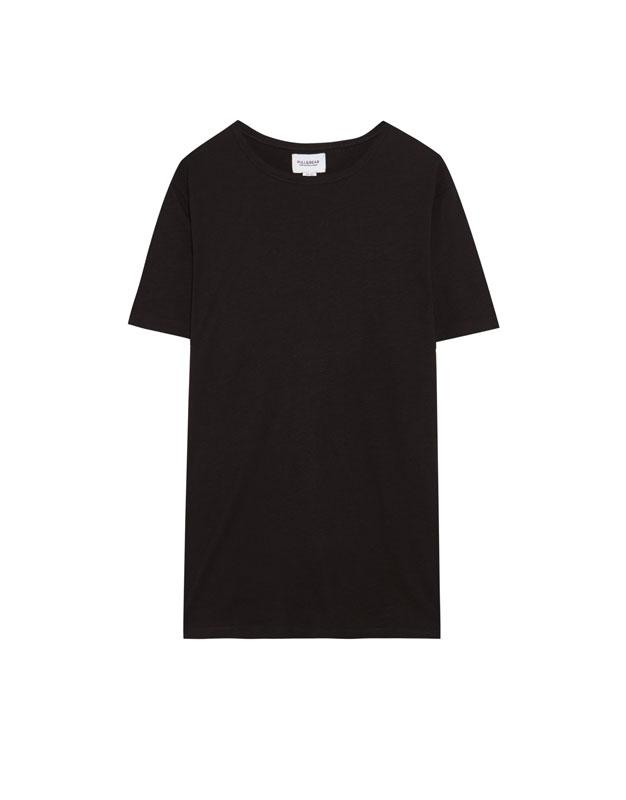teeshirt: (101, 119, 527, 659)
